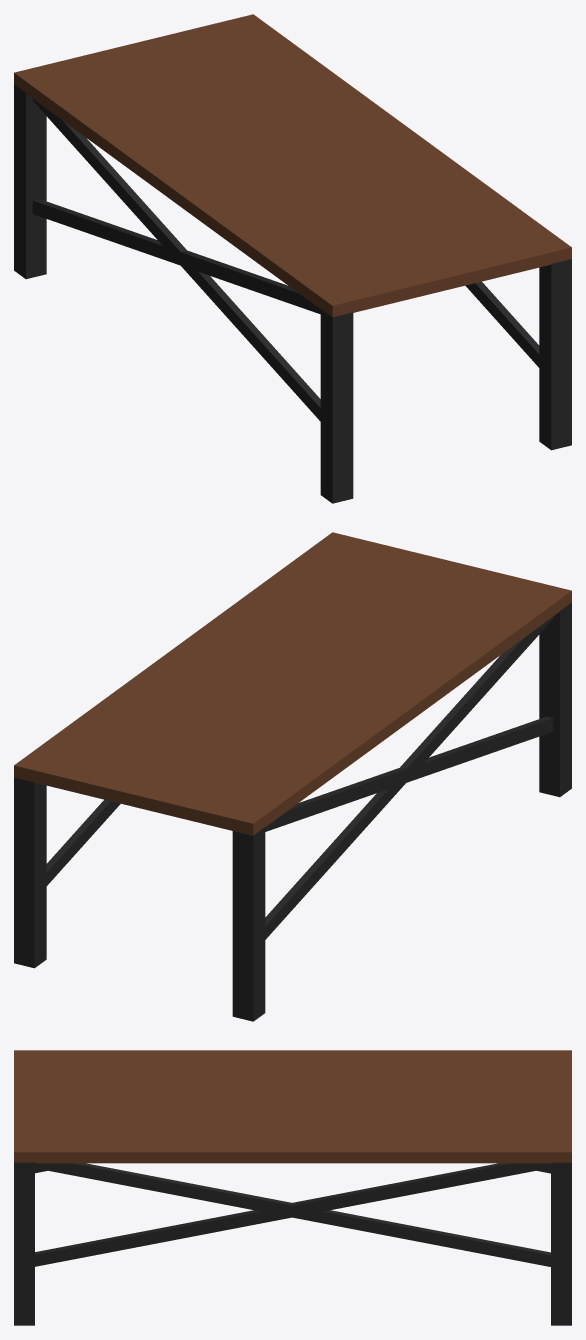
File: GrandeTable_24.fbx
The picture shows the model from 3 angles, top to bottom: view 1: azimuth 30°, elevation 25°; view 2: azimuth 150°, elevation 25°; view 3: azimuth 270°, elevation 25°; orthographic projection. The views are drawn at different scales.
Parts seen in each view (by area): view 1: pCube64, pCube66, pCube65, pCube73, pCube67, pCube74, pCube72; view 2: pCube64, pCube67, pCube68, pCube74, pCube66, pCube73, pCube69; view 3: pCube64, pCube69, pCube72, pCube68, pCube65.
Part boxes in pixels (box(x1,y1,x2,y2)): pCube64: box(14, 14, 571, 317); pCube66: box(320, 309, 353, 503); pCube65: box(539, 259, 571, 450); pCube73: box(32, 99, 320, 421); pCube67: box(14, 84, 46, 279); pCube74: box(32, 199, 320, 314); pCube72: box(465, 281, 539, 367); pCube64: box(14, 532, 571, 835); pCube67: box(232, 827, 265, 1021); pCube68: box(14, 777, 46, 968); pCube74: box(265, 617, 553, 939); pCube66: box(539, 602, 571, 797); pCube73: box(265, 716, 553, 831); pCube69: box(46, 799, 120, 885); pCube64: box(14, 1050, 571, 1163); pCube69: box(35, 1163, 550, 1266); pCube72: box(35, 1163, 550, 1266); pCube68: box(551, 1162, 571, 1325); pCube65: box(14, 1162, 34, 1325).
Size of the model in its own units: 52.71 by 41.63 by 121.
